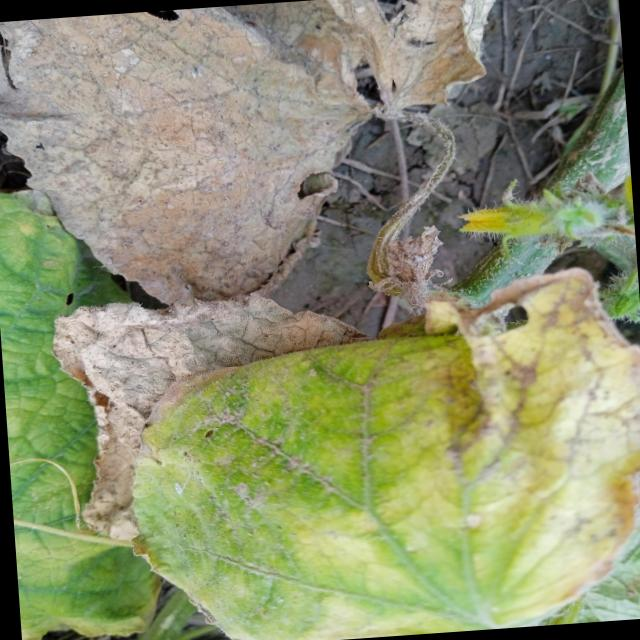cucumber_bacterial: (46, 261, 640, 640), (0, 0, 514, 323)
